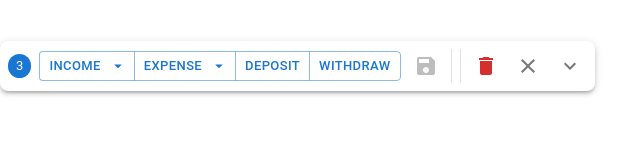
Test case: CompactActionBar › Expand/collapse toggle › shows accept button in expanded section when not hidden
Click the button with test id "expand-button" at (570,66), box [553, 49, 587, 83]
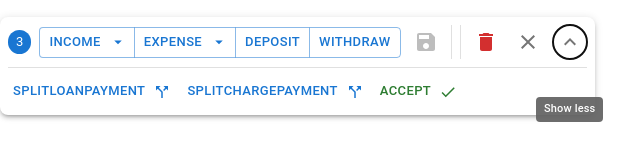
Now the button "accept" is shown, box [375, 76, 460, 107]
